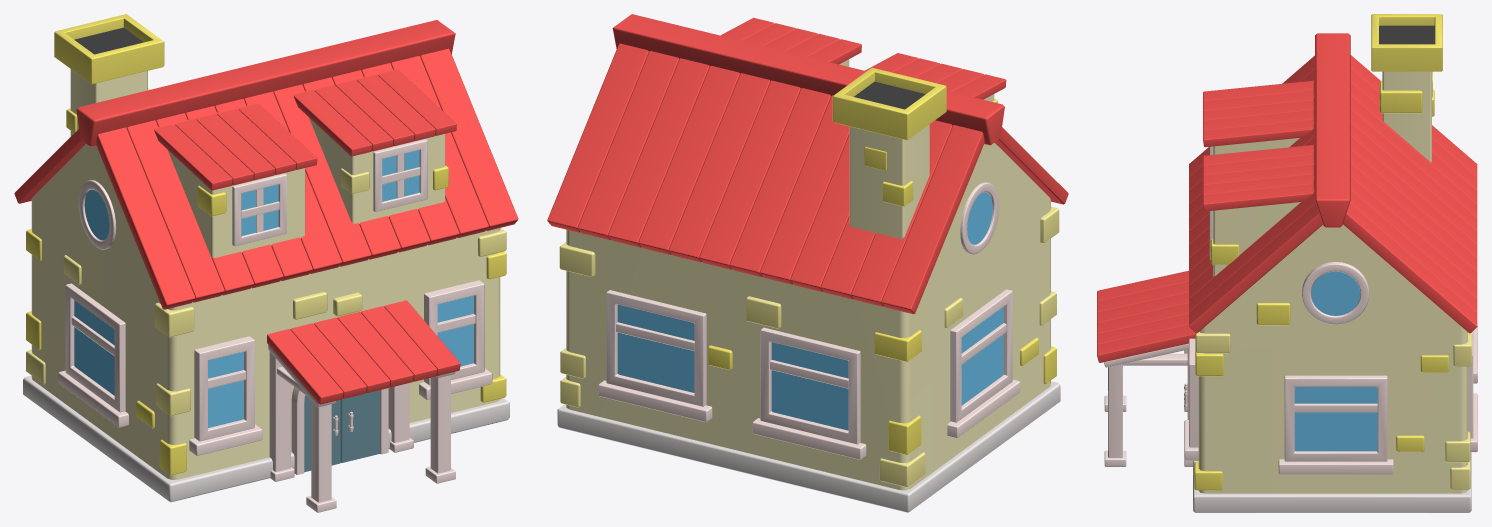
Rendered from Town_20_House_1.glb.
3 views of the same model, side by side, from view 1: azimuth 30°, elevation 25°; view 2: azimuth 150°, elevation 25°; view 3: azimuth 270°, elevation 25° (orthographic). The views are drawn at different scales.
Parts seen in each view (by area): view 1: Town_20_House_1; view 2: Town_20_House_1; view 3: Town_20_House_1.
Boxes of the visible parts, box(x1,y1,x2,y2) form: Town_20_House_1: box(14, 14, 518, 512); Town_20_House_1: box(547, 14, 1068, 512); Town_20_House_1: box(1097, 14, 1477, 512).
Size of the model in its own units: 8.22 by 8.05 by 7.92.
Materials: 1 (1 with a texture image).
